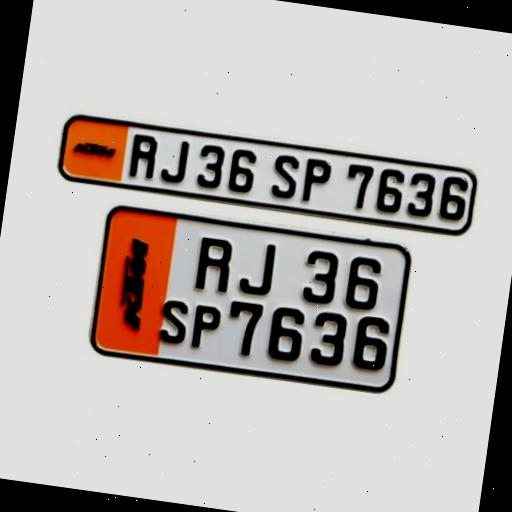number plate: (80, 202, 418, 400), (55, 107, 480, 238)
